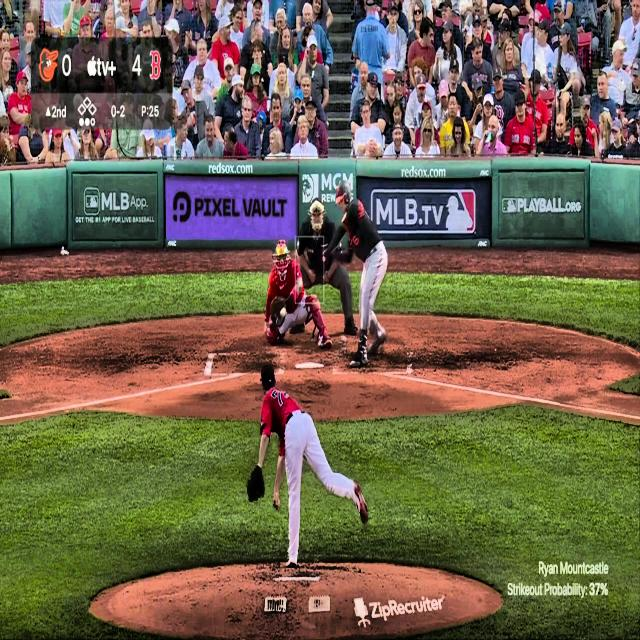baseball: (279, 307, 287, 318)
